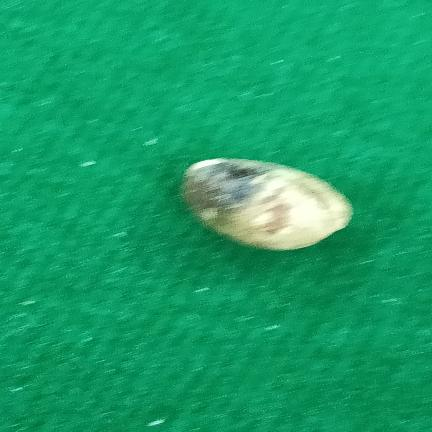partial-black: (183, 158, 352, 251)
